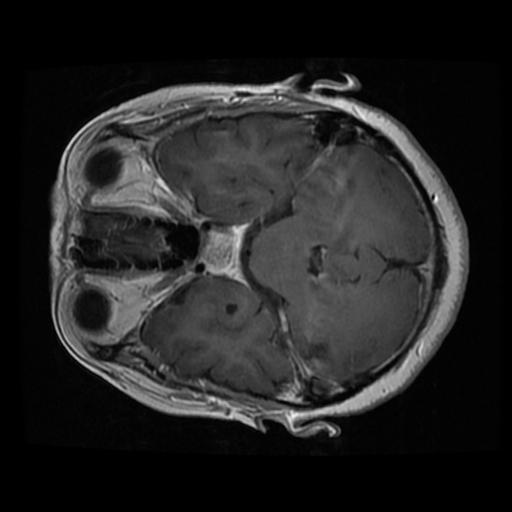pituitary tumour: (198, 230, 241, 277)
